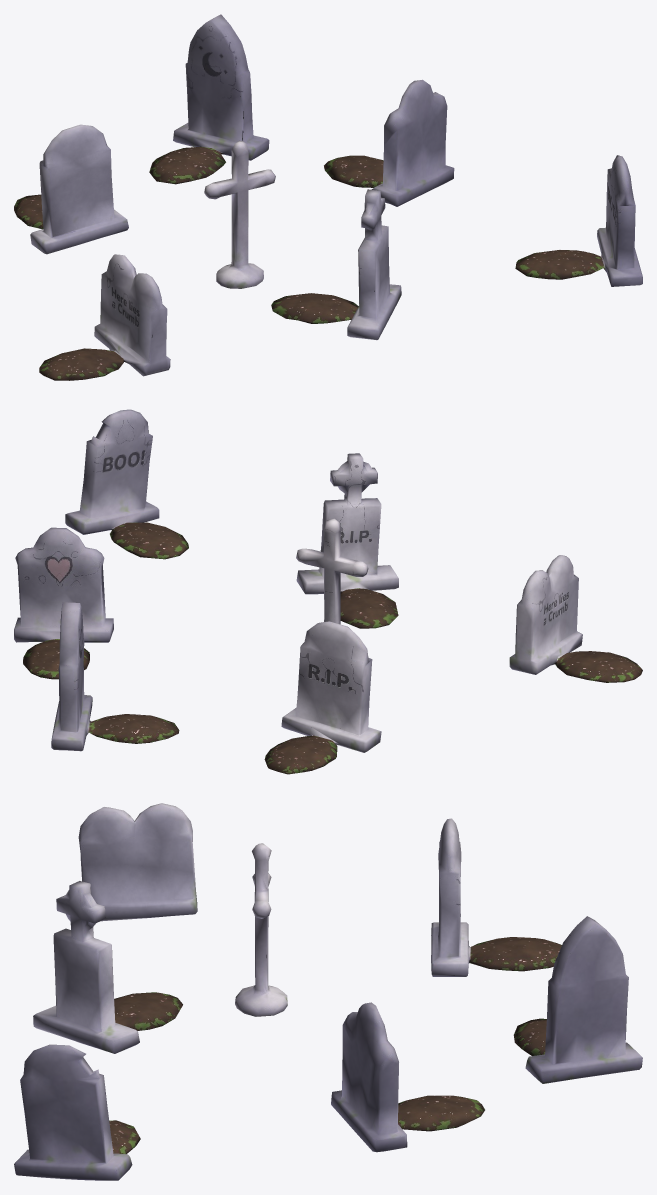
The model's file is graveyard_stones.glb.
3 renders of one model, top to bottom at view 1: azimuth 30°, elevation 25°; view 2: azimuth 150°, elevation 25°; view 3: azimuth 270°, elevation 25°, orthographic. The views are drawn at different scales.
Parts seen in each view (by area): view 1: Tombstone5, Tombstone0, Tombstone4, Tombstone1, Tombstone2, Tombstone3, TombstoneCross; view 2: Tombstone0, Tombstone3, Tombstone1, Tombstone4, Tombstone2, Tombstone5, TombstoneCross; view 3: Tombstone5, Tombstone3, Tombstone4, Tombstone2, Tombstone1, Tombstone0, TombstoneCross.
Part boxes in pixels (box(x1,y1,x2,y2)): Tombstone5: box(149, 14, 269, 184); Tombstone0: box(14, 124, 128, 254); Tombstone4: box(39, 254, 170, 380); Tombstone1: box(324, 79, 454, 206); Tombstone2: box(271, 189, 401, 340); Tombstone3: box(515, 155, 642, 286); TombstoneCross: box(204, 140, 275, 288); Tombstone0: box(264, 621, 381, 774); Tombstone3: box(65, 409, 188, 559); Tombstone1: box(14, 527, 113, 679); Tombstone4: box(509, 555, 642, 682); Tombstone2: box(296, 453, 398, 628); Tombstone5: box(51, 602, 179, 751); TombstoneCross: box(296, 518, 368, 624); Tombstone5: box(513, 916, 642, 1083); Tombstone3: box(14, 1044, 140, 1180); Tombstone4: box(78, 803, 197, 921); Tombstone2: box(33, 881, 182, 1053); Tombstone1: box(331, 1002, 484, 1152); Tombstone0: box(431, 818, 561, 976); TombstoneCross: box(235, 843, 287, 1016).
Size of the model in its own units: 5.79 by 1.33 by 4.68.
Materials: 1 (1 with a texture image).
